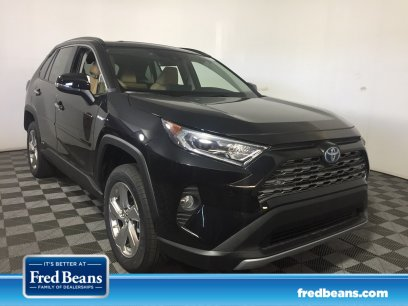Toyota RAV-4: (22, 36, 370, 271)
